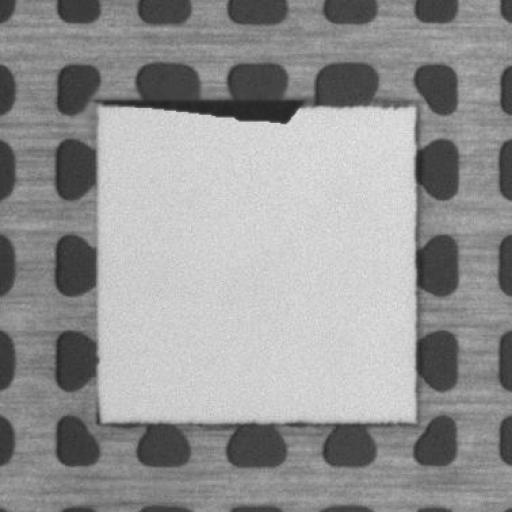DIE_BROKEN: (86, 93, 304, 124)
